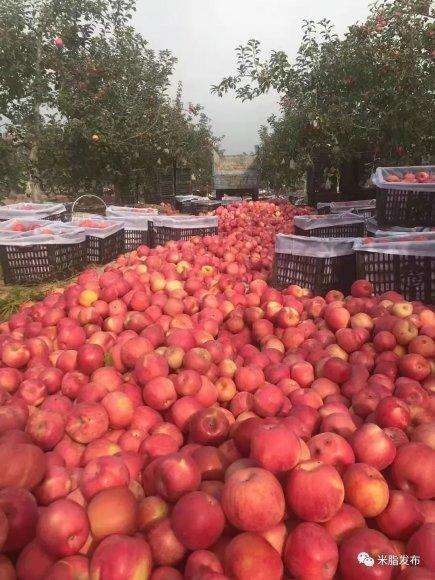apple: (221, 466, 286, 533), (284, 459, 344, 520), (281, 519, 341, 580), (35, 496, 89, 554), (170, 490, 224, 548), (224, 531, 283, 580), (91, 535, 154, 580), (338, 463, 389, 518), (372, 488, 423, 542), (86, 487, 137, 537), (248, 422, 299, 469)
